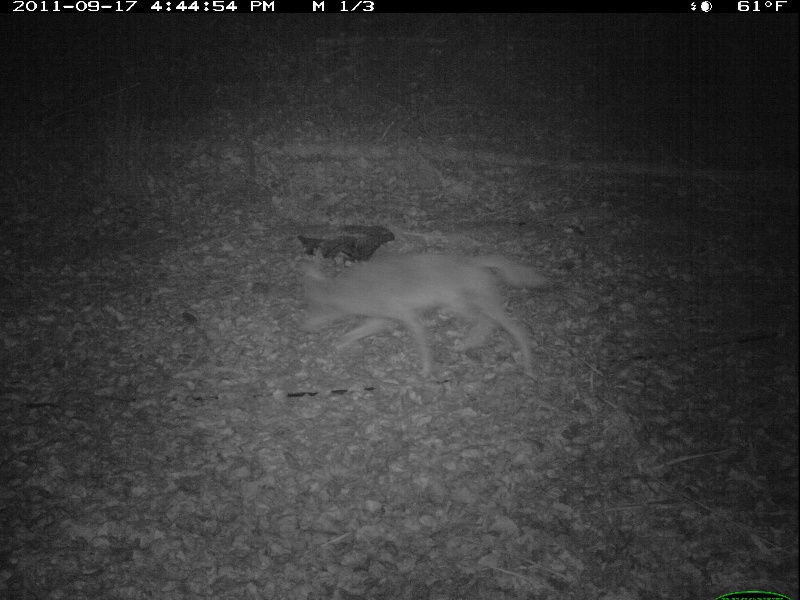coyote: (295, 250, 554, 380)
